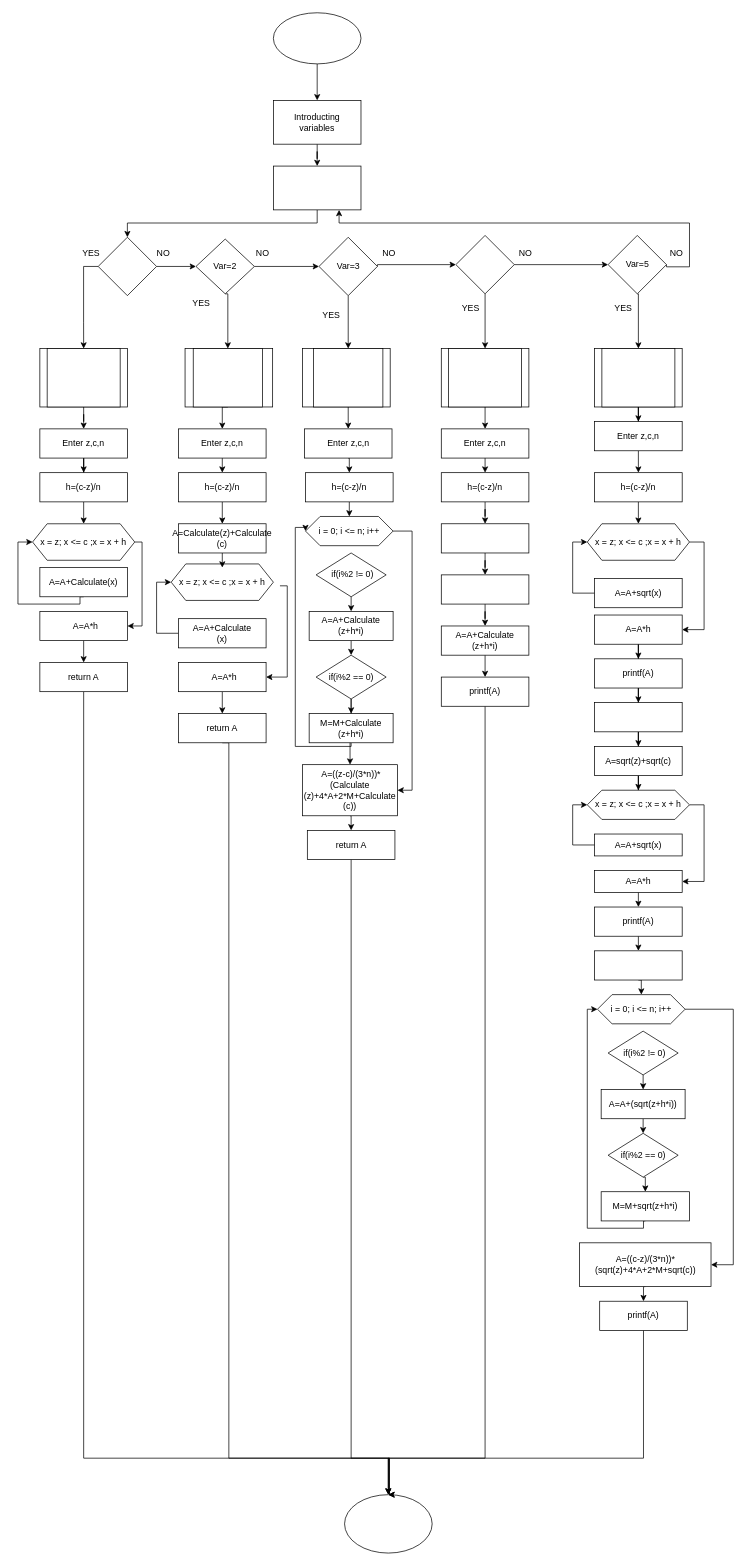
The diagram is 752 pixels wide and 1566 high, and some of its shapes have lost their labels. The centre of each missing label's shape, as x and y in pixels:
1.Rectangies: the point at 83,377
2.Trapezium: the point at 227,377
3.Simpson: the point at 348,377
4.Usual: the point at 485,377
5.Demo version (y=sqrt(x)): the point at 638,377
A=(pow(c,3)/3)*((pow(z,2)-1)/2): the point at 485,538
Enter variant (1-5): the point at 317,187
Finish: the point at 388,1523
h = (b-a)/n: the point at 638,717
h=((b-a)/n): the point at 638,965
M=(pow(c,3)/3)*((pow(z,2)-1)/2: the point at 485,589
Start: the point at 317,38
Var=1: the point at 127,266
Var=4: the point at 484,264
